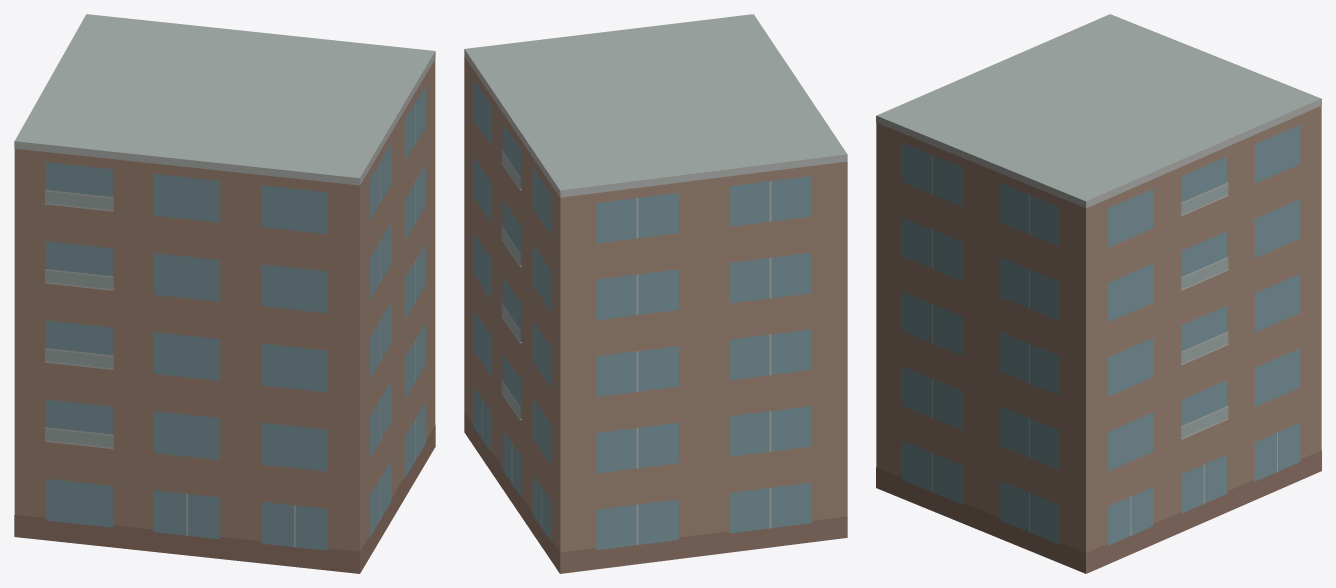
The model's file is survey-upis-32971982.glb.
3 views of the same model, side by side, from view 1: azimuth 30°, elevation 25°; view 2: azimuth 150°, elevation 25°; view 3: azimuth 270°, elevation 25° (orthographic). The views are drawn at different scales.
Parts seen in each view (by area): view 1: survey-upis-32971982.tmp; view 2: survey-upis-32971982.tmp; view 3: survey-upis-32971982.tmp.
Boxes of the visible parts, box(x1,y1,x2,y2) form: survey-upis-32971982.tmp: box(14, 14, 435, 573); survey-upis-32971982.tmp: box(464, 14, 847, 573); survey-upis-32971982.tmp: box(876, 14, 1321, 573).
Bounding box in the file's own units: 14.15 × 13.1 × 14.21.
